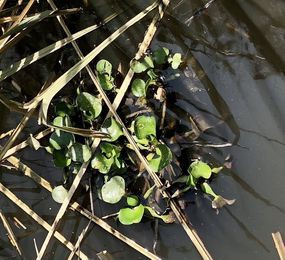water_hyacinth: (46, 54, 224, 216)
